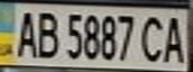5: (60, 9, 84, 60)
7: (115, 11, 139, 62)
8: (81, 10, 103, 61), (100, 11, 121, 62)
A: (9, 7, 39, 60), (160, 11, 190, 64)
B: (33, 7, 60, 60)
C: (139, 11, 169, 63)
